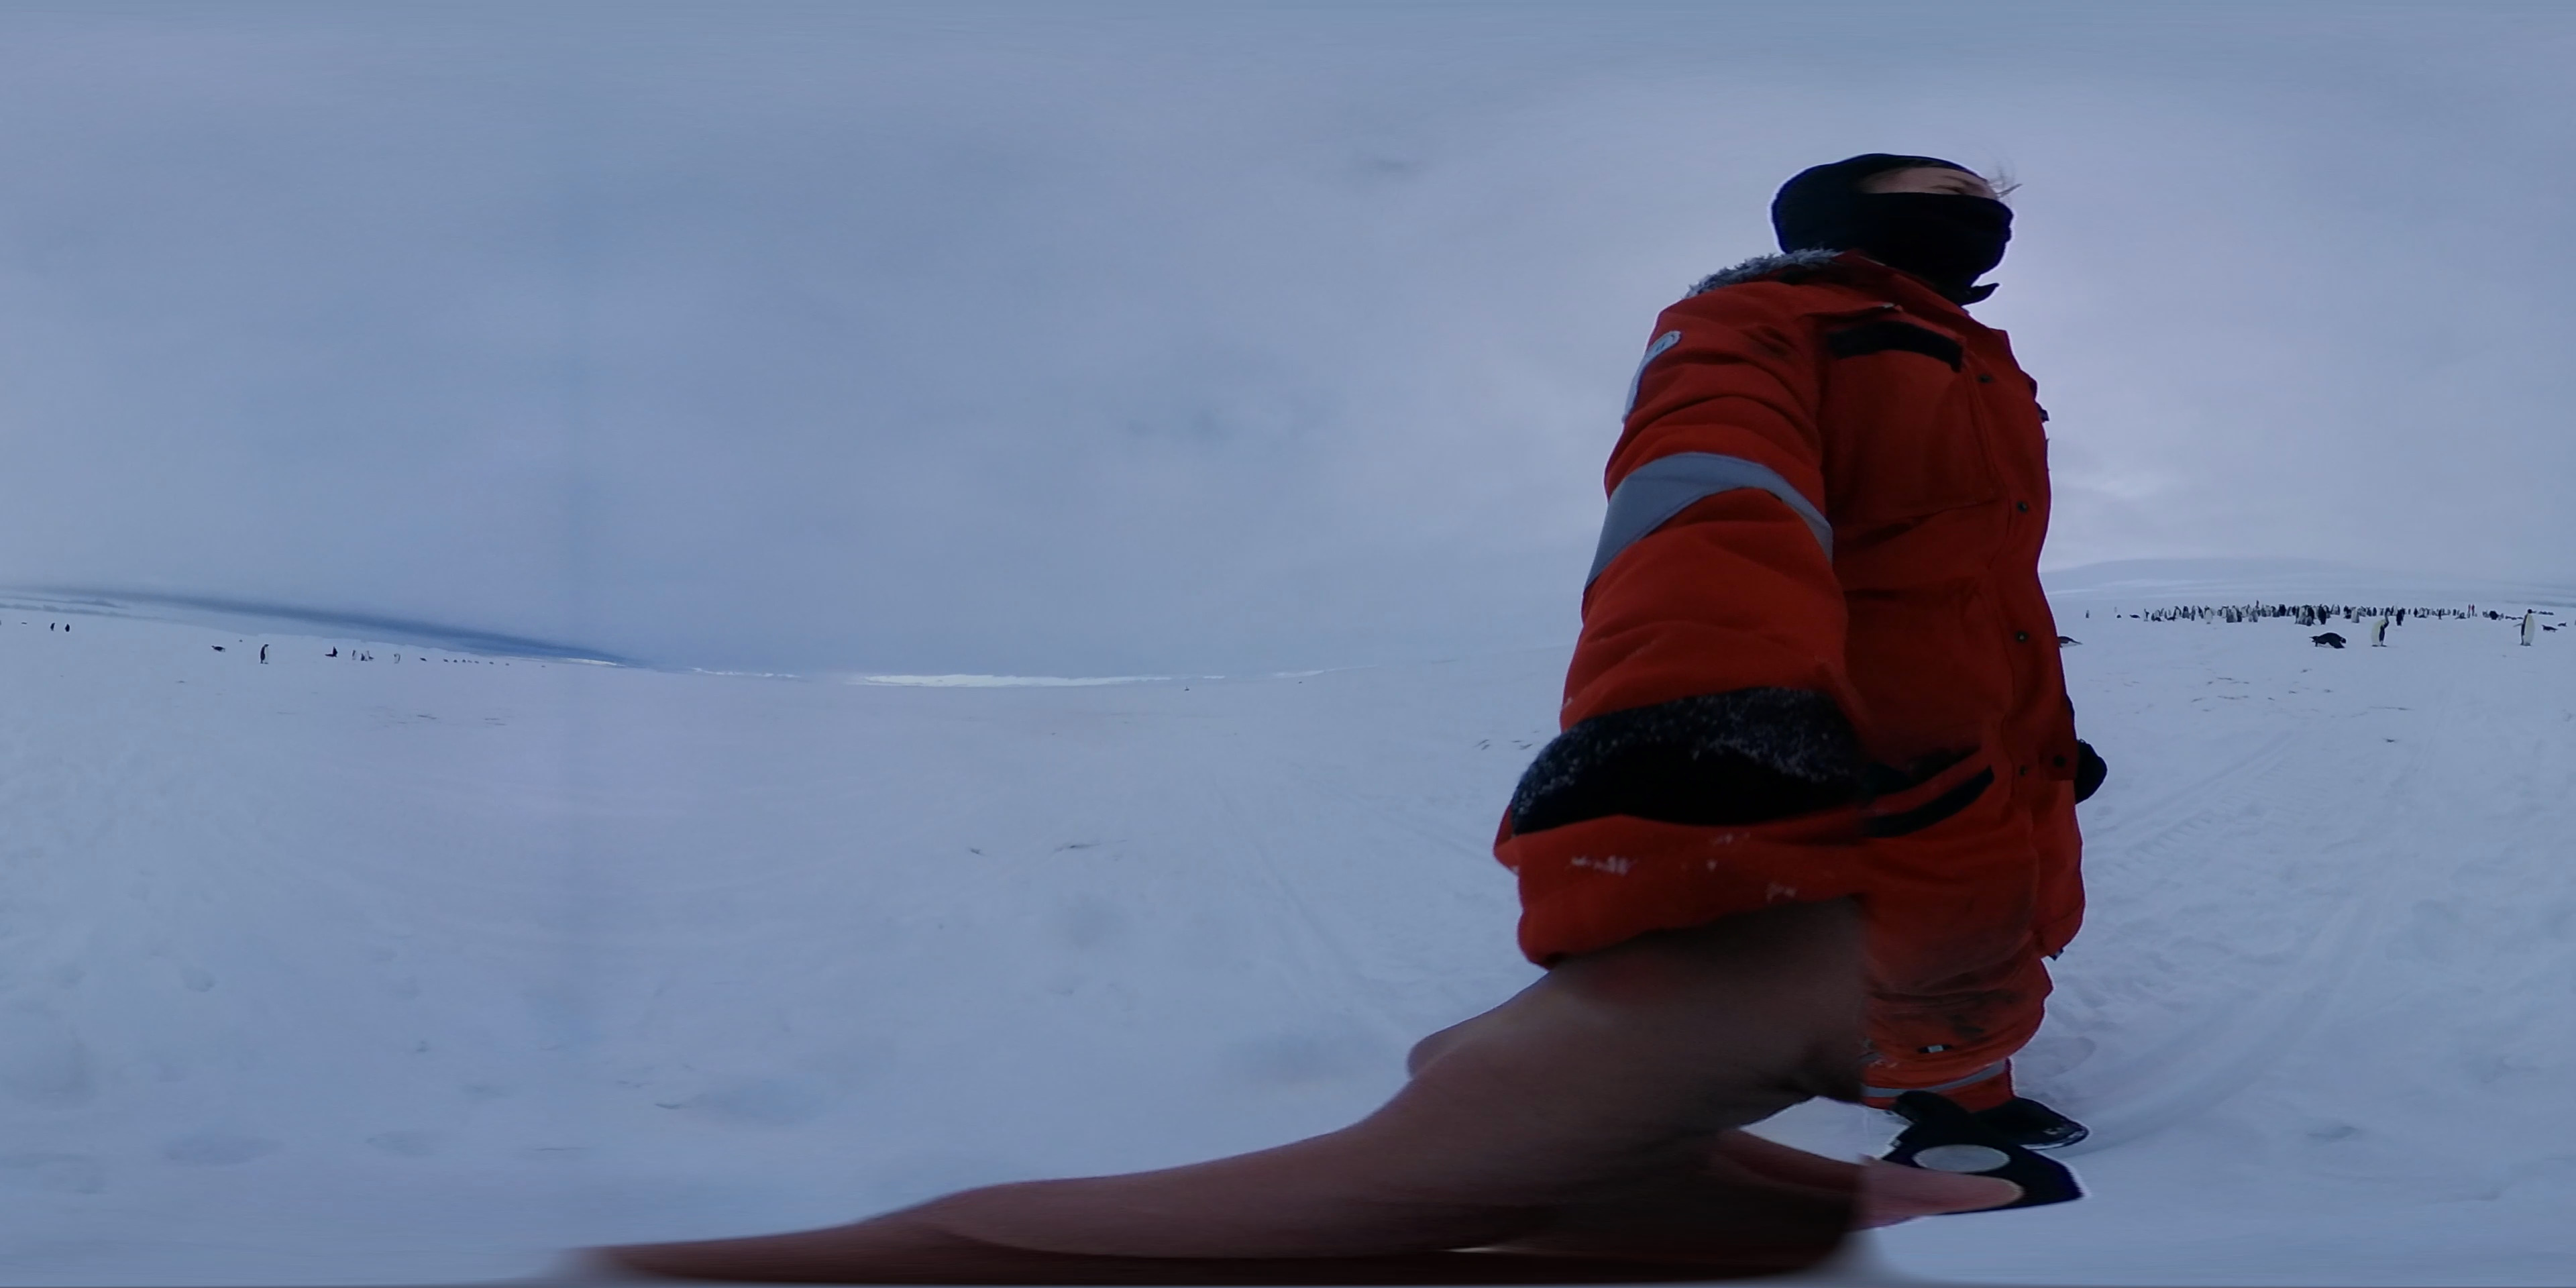adult_standing_penguin: (2514, 606, 2537, 651), (2369, 621, 2387, 646), (258, 642, 271, 667)
adult_toboggan_penguin: (2308, 632, 2344, 651), (2057, 636, 2086, 651)
researcher: (1510, 145, 2132, 1199)
